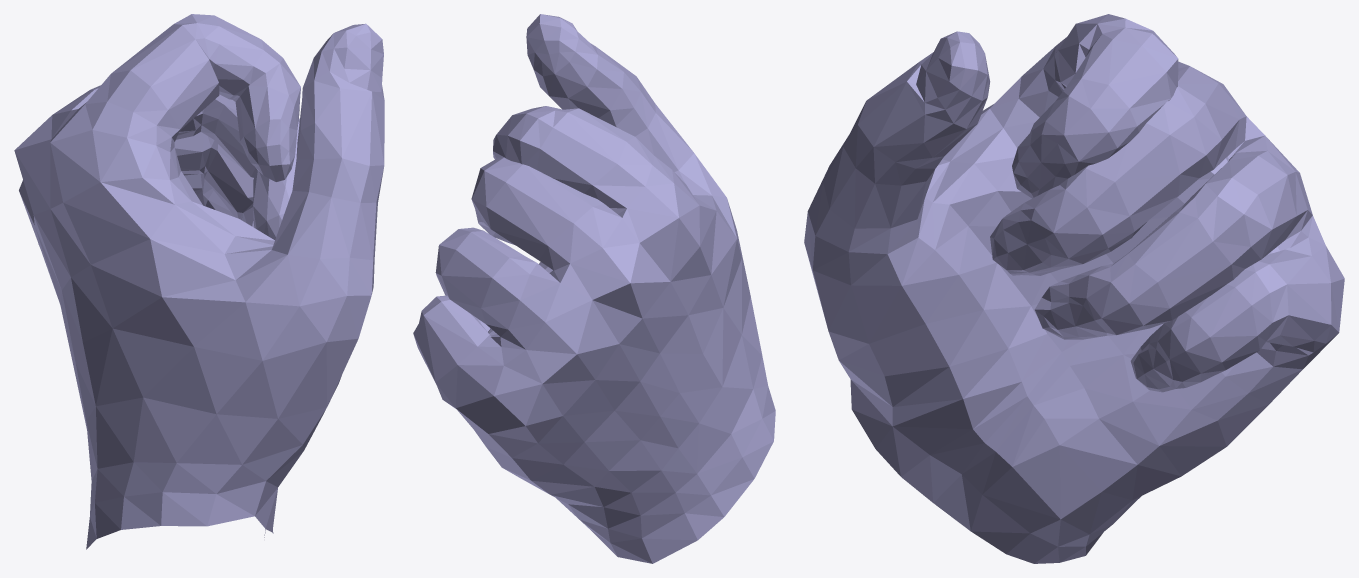
Rendered from frame_0013_source_000013_hand.glb.
3 renders of one model, left to right at view 1: azimuth 30°, elevation 25°; view 2: azimuth 150°, elevation 25°; view 3: azimuth 270°, elevation 25°, orthographic. The views are drawn at different scales.
Visible parts, largest first — view 1: world; view 2: world; view 3: world.
Part boxes in pixels (x1=…): world: x1=14, y1=14, x2=384, y2=549; world: x1=413, y1=14, x2=775, y2=563; world: x1=804, y1=14, x2=1344, y2=563.
Bounding box in the file's own units: 0.0634 × 0.1211 × 0.1004.
